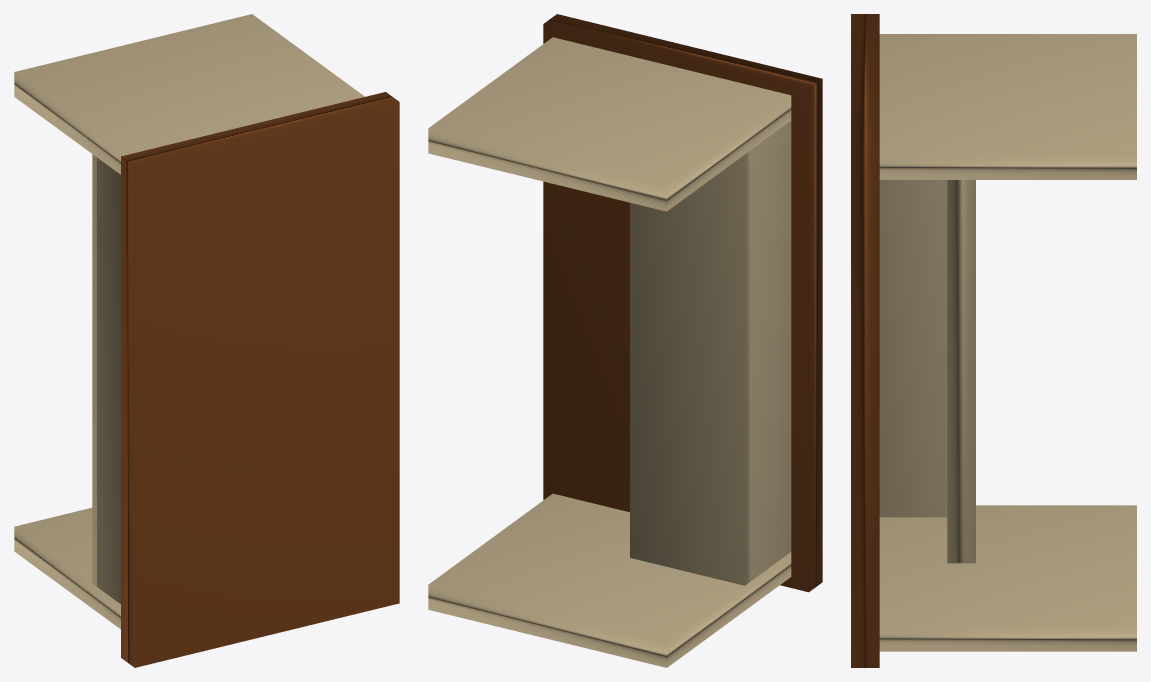
Rendered from SimpleTeachDesk.fbx.
The picture shows the model from 3 angles, left to right: view 1: azimuth 30°, elevation 25°; view 2: azimuth 150°, elevation 25°; view 3: azimuth 270°, elevation 25°; orthographic projection. The views are drawn at different scales.
Parts seen in each view (by area): view 1: Cube_001, Cube_002, Cube_004, Cube, Cube_003; view 2: Cube_001, Cube_003, Cube_002, Cube, Cube_004; view 3: Cube_002, Cube, Cube_004, Cube_001, Cube_003.
Boxes of the visible parts, left/top/right/bottom form: Cube_001: left=121, top=92, right=399, bottom=667; Cube_002: left=14, top=14, right=364, bottom=174; Cube_004: left=97, top=157, right=120, bottom=603; Cube: left=14, top=507, right=120, bottom=629; Cube_003: left=92, top=154, right=96, bottom=586; Cube_001: left=543, top=14, right=822, bottom=592; Cube_003: left=630, top=151, right=749, bottom=585; Cube_002: left=428, top=37, right=791, bottom=211; Cube: left=428, top=493, right=791, bottom=667; Cube_004: left=749, top=121, right=791, bottom=581; Cube_002: left=879, top=34, right=1136, bottom=179; Cube: left=879, top=505, right=1136, bottom=651; Cube_004: left=879, top=180, right=947, bottom=517; Cube_001: left=851, top=14, right=879, bottom=667; Cube_003: left=947, top=180, right=975, bottom=563.
Size of the model in its own units: 2.22 by 4.02 by 2.
